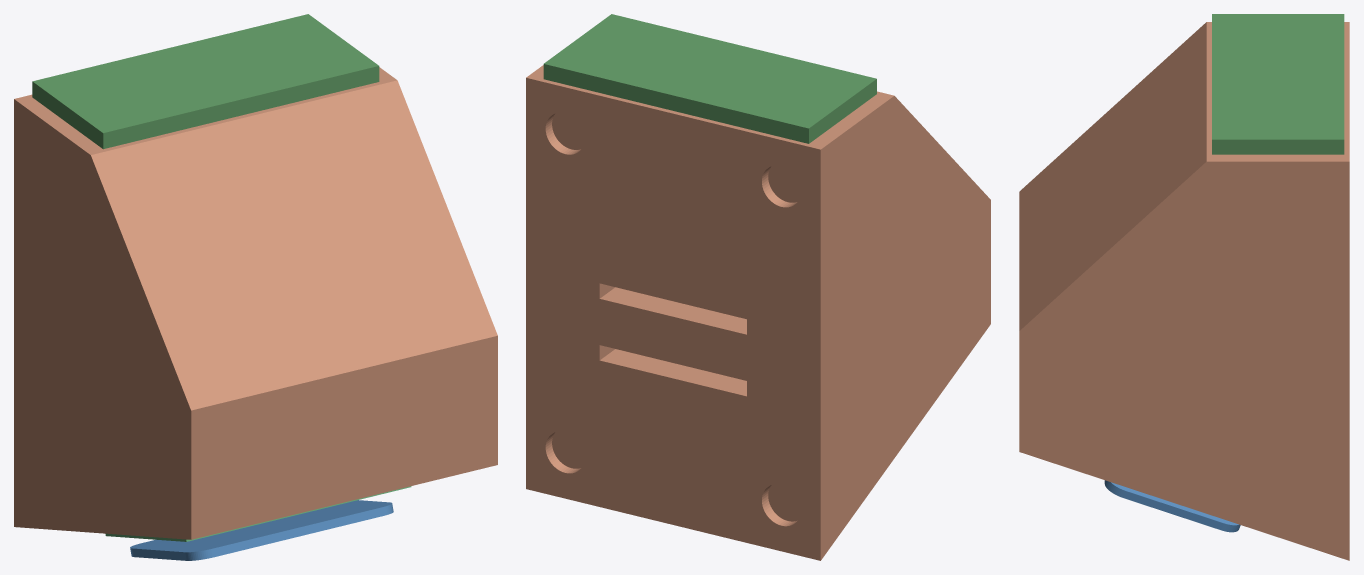
File: cat-collar-stand.glb
3 renders of one model, left to right at view 1: azimuth 30°, elevation 25°; view 2: azimuth 150°, elevation 25°; view 3: azimuth 270°, elevation 25°, orthographic. The views are drawn at different scales.
Parts seen in each view (by area): view 1: stand, back_cover, RP2350_AMOLED玻璃, RP2350_PCB; view 2: stand, back_cover; view 3: stand, back_cover, RP2350_AMOLED玻璃.
Part boxes in pixels (box(x1,y1,x2,y2)): stand: box(14, 67, 497, 539); back_cover: box(32, 14, 379, 149); RP2350_AMOLED玻璃: box(130, 500, 393, 560); RP2350_PCB: box(105, 486, 411, 541); stand: box(526, 65, 990, 560); back_cover: box(543, 14, 876, 143); stand: box(1019, 22, 1349, 560); back_cover: box(1212, 14, 1344, 154); RP2350_AMOLED玻璃: box(1104, 480, 1240, 532).
Size of the model in its own units: 60 by 83 by 60.
